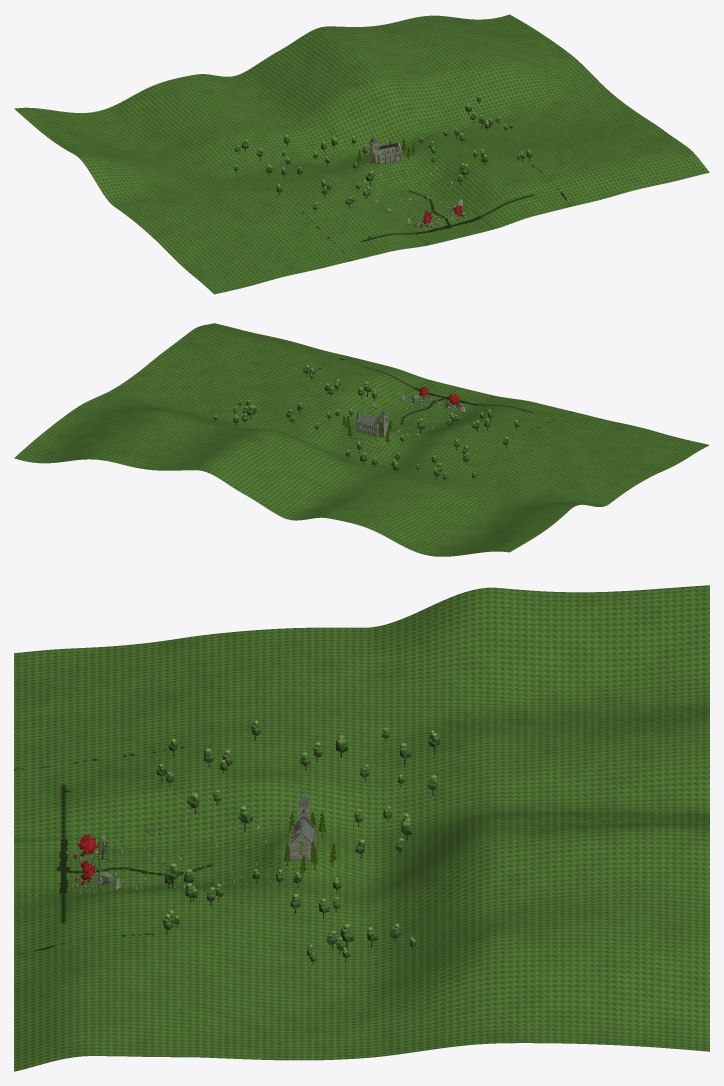
The model's file is crypt.glb.
The picture shows the model from 3 angles, top to bottom: view 1: azimuth 30°, elevation 25°; view 2: azimuth 150°, elevation 25°; view 3: azimuth 270°, elevation 25°; orthographic projection. The views are drawn at different scales.
Visible parts, largest first — view 1: set_grass, set_foliage, set_crypt_chapel, set_crypt_props; view 2: set_grass, set_foliage, set_crypt_chapel, set_crypt_props; view 3: set_grass, set_foliage, set_crypt_chapel.
Boxes of the visible parts, box(x1,y1,x2,y2) form: set_grass: box(14, 14, 709, 294); set_foliage: box(234, 96, 532, 219); set_crypt_chapel: box(369, 137, 402, 164); set_crypt_props: box(354, 160, 471, 229); set_grass: box(14, 323, 709, 556); set_foliage: box(213, 365, 519, 481); set_crypt_chapel: box(356, 410, 388, 437); set_crypt_props: box(346, 392, 465, 437); set_grass: box(14, 585, 709, 1071); set_foliage: box(30, 720, 439, 964); set_crypt_chapel: box(283, 795, 316, 860).
Size of the model in its own units: 400 by 38.96 by 280.
11 materials, 10 textured.
